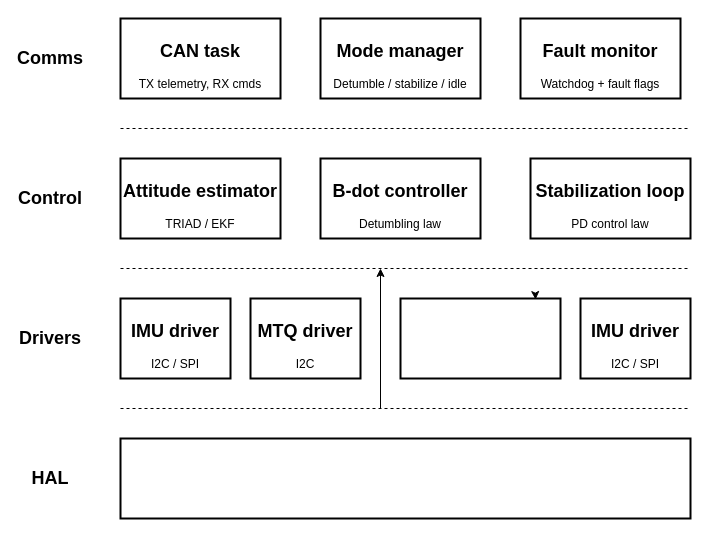
The diagram is 709 pixels wide and 536 high, and some of its shapes have lost their labels. The centre of each missing label's shape, as x and y in pixels:
"MCU HAL - FreeRTOS kernel Timers - I2C - SPI - ADC - PWM - CAN peripheral - GPIO" belongs at (x=405, y=478).
"Sun sensor driver ADC" belongs at (x=480, y=338).
